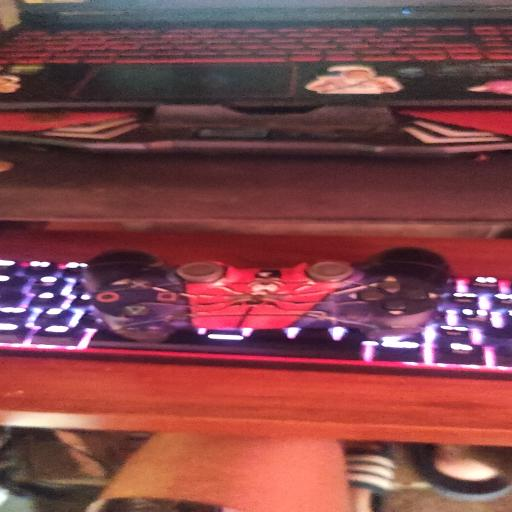ControlPlay4: (82, 248, 449, 345)
